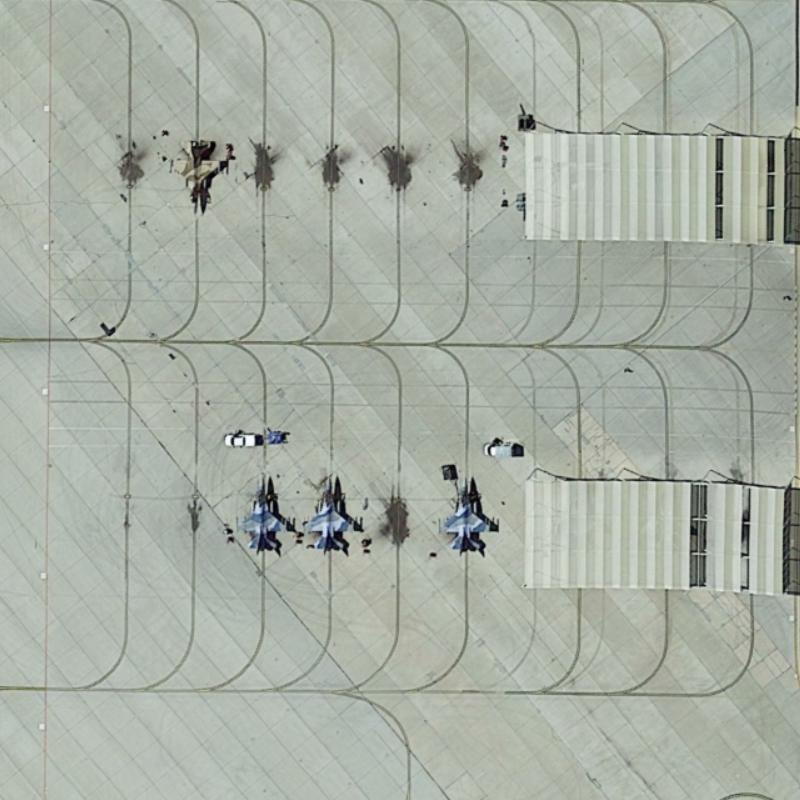A5: (164, 128, 242, 219), (430, 471, 503, 555), (229, 458, 292, 555), (294, 471, 364, 557)
